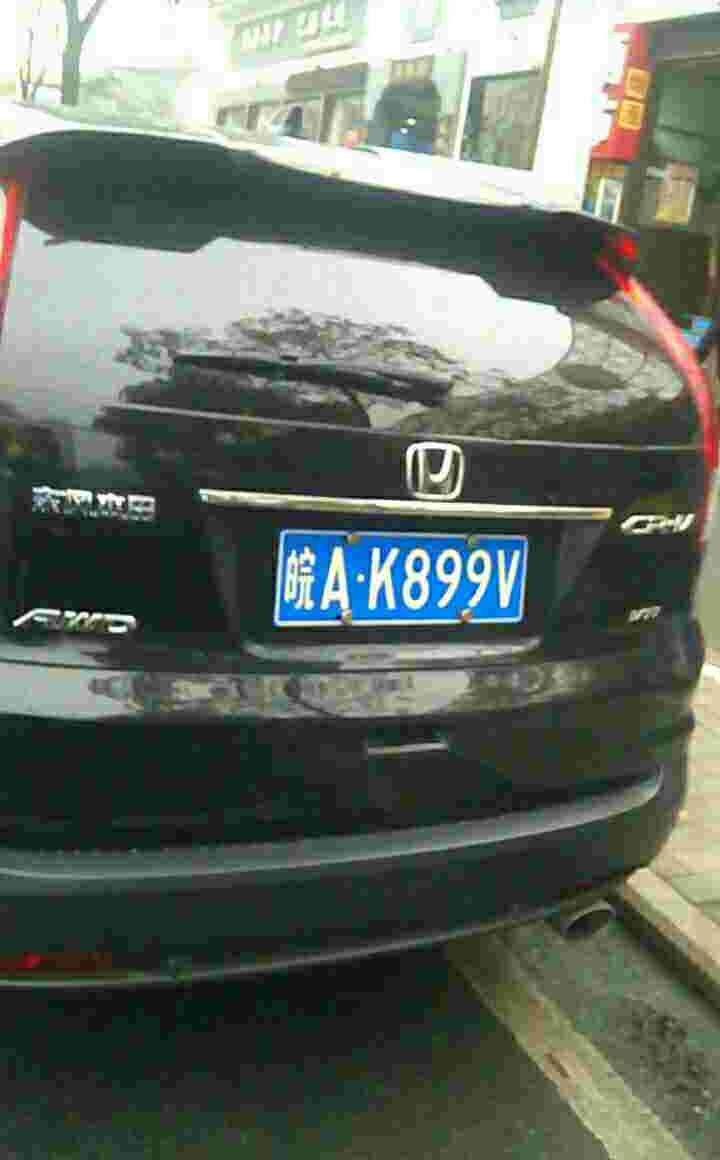license_plate: (281, 543, 522, 623)
